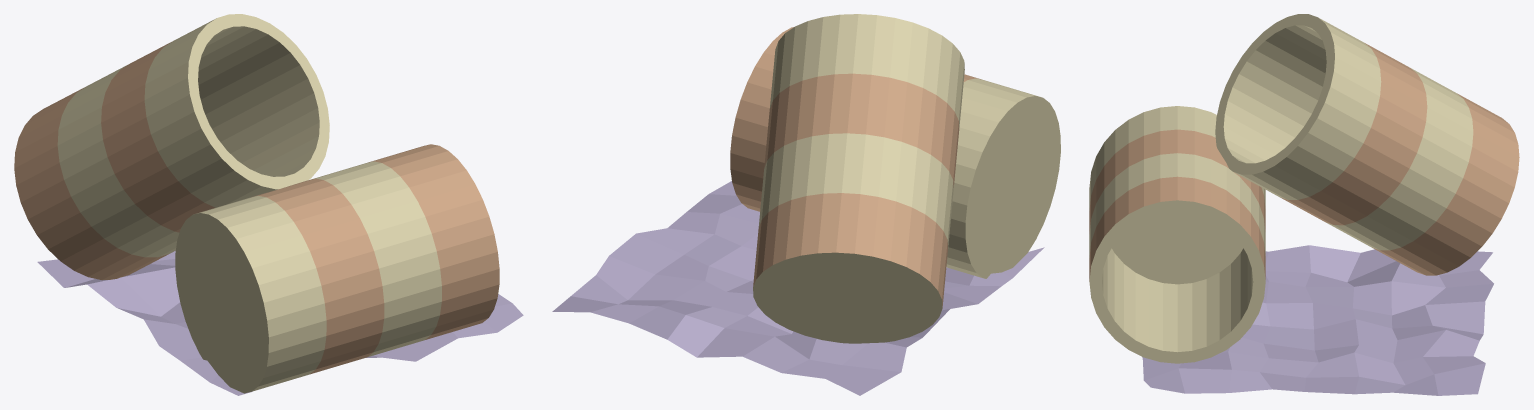
File: waste.glb
3 views of the same model, side by side, from view 1: azimuth 30°, elevation 25°; view 2: azimuth 150°, elevation 25°; view 3: azimuth 270°, elevation 25° (orthographic). The views are drawn at different scales.
Visible parts, largest first — view 1: Cylinder.012; view 2: Cylinder.012; view 3: Cylinder.012.
Part boxes in pixels (x1,y1,x2,y2): Cylinder.012: (14, 14, 523, 395); Cylinder.012: (552, 14, 1060, 395); Cylinder.012: (1089, 14, 1519, 395).
Bounding box in the file's own units: 0.7636 × 0.5904 × 0.8235.
